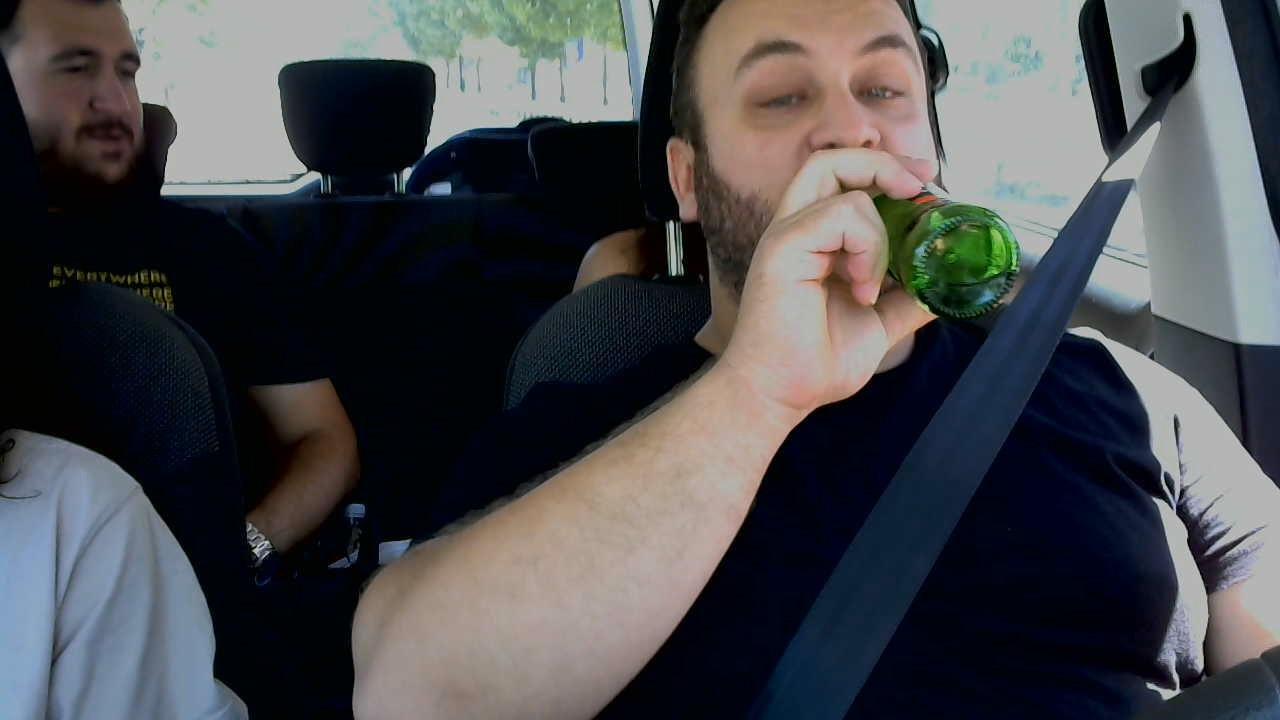Drinking: (666, 0, 1020, 399)
